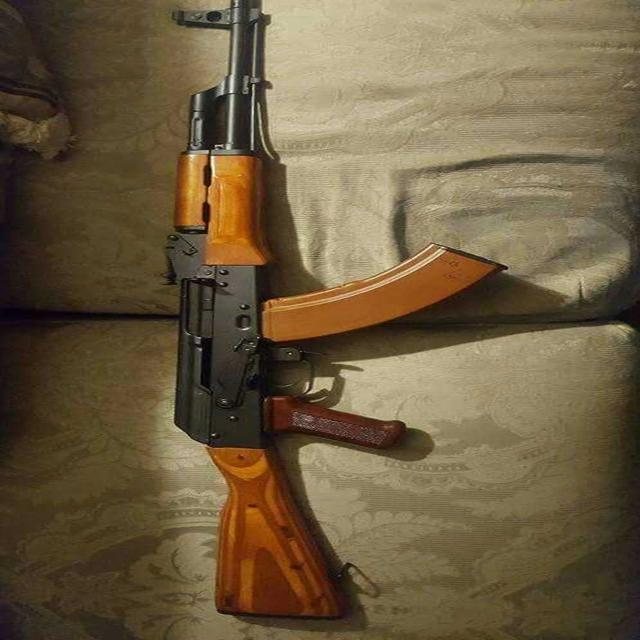ak: (170, 0, 503, 622)
